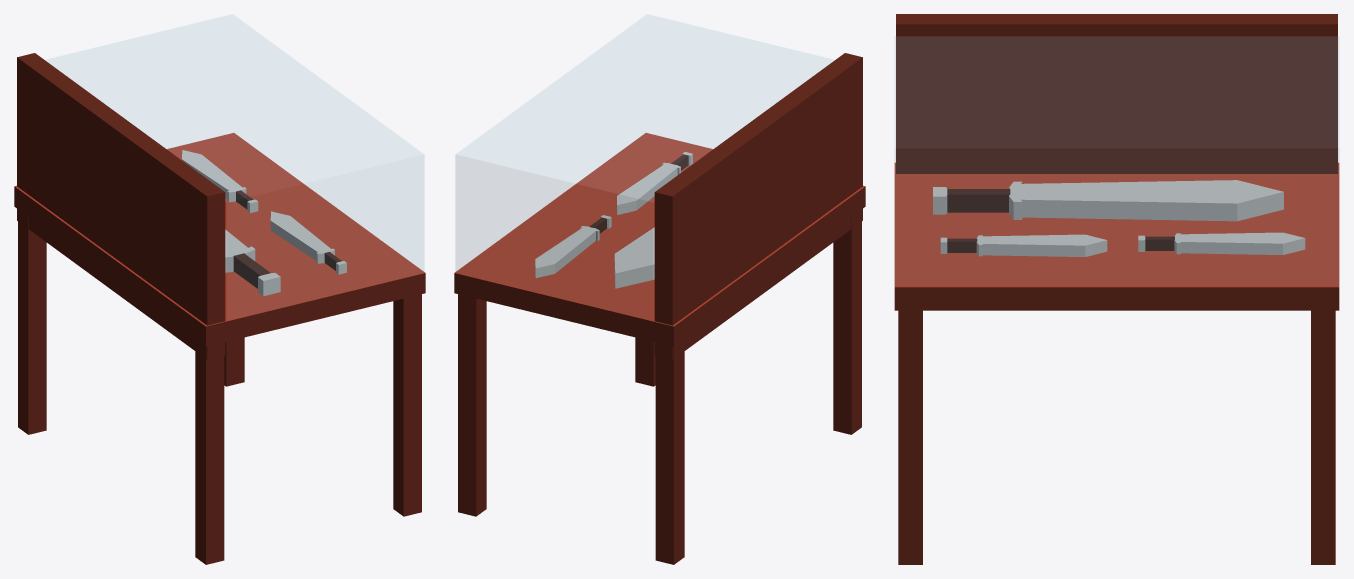
Rendered from montre.gltf.
3 renders of one model, left to right at view 1: azimuth 30°, elevation 25°; view 2: azimuth 150°, elevation 25°; view 3: azimuth 270°, elevation 25°, orthographic. The views are drawn at different scales.
Parts seen in each view (by area): view 1: glass, Cube.006, Cube.004, Cube.003, Cube.002, Cube, Cube.007, Cube.005, Cube.008, Cube.001; view 2: glass, Cube.006, Cube.004, Cube, Cube.001, Cube.003, Cube.007, Cube.008, Cube.005, Cube.002; view 3: glass, Cube.006, Cube.004, Cube.007, Cube.001, Cube.002, Cube.008, Cube.005.
Boxes of the visible parts, x1,y1,x2,y2 form: glass: [46, 14, 423, 320]; Cube.006: [17, 53, 225, 359]; Cube.004: [14, 133, 425, 346]; Cube.003: [195, 339, 224, 564]; Cube.002: [393, 294, 421, 516]; Cube: [18, 209, 46, 434]; Cube.007: [225, 229, 280, 296]; Cube.005: [270, 211, 346, 274]; Cube.008: [182, 150, 258, 213]; Cube.001: [224, 337, 244, 386]; glass: [456, 14, 833, 320]; Cube.006: [654, 53, 862, 359]; Cube.004: [454, 133, 865, 346]; Cube: [655, 339, 684, 564]; Cube.001: [458, 294, 486, 516]; Cube.003: [833, 209, 861, 434]; Cube.007: [614, 227, 654, 288]; Cube.008: [535, 215, 611, 278]; Cube.005: [617, 152, 692, 214]; Cube.002: [635, 337, 655, 386]; glass: [895, 37, 1338, 285]; Cube.006: [896, 14, 1337, 173]; Cube.004: [894, 162, 1339, 310]; Cube.007: [933, 180, 1283, 221]; Cube.001: [1311, 310, 1335, 564]; Cube.002: [898, 310, 922, 564]; Cube.008: [1138, 232, 1305, 254]; Cube.005: [940, 234, 1107, 256].
Size of the model in its own units: 2 by 3.21 by 3.02.
